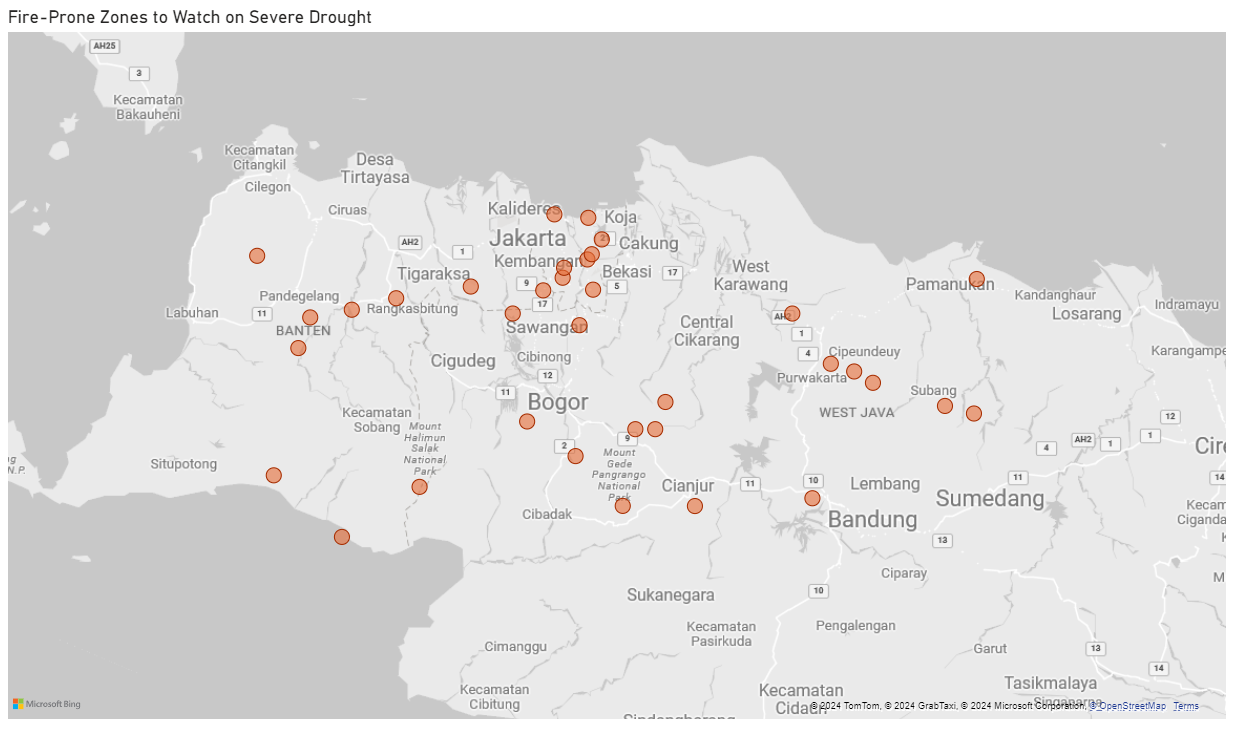

This screenshot's page, from the dashboard's own definition file:
{"tool":"powerbi","page":{"name":"map-2","canvas":[1280,720],"ordinal":1},"visuals":[{"type":"map","title":"Fire-Prone Zones to Watch on Severe Drought","fields":{"Y":["dummy.Location_Latitude"],"X":["dummy.Location_Longitude"]},"box":[41.6,17,1169.8,684.1],"z":0}]}

Visuals, with their boxes on the page's 1280x720 design canvas (x1, y1, x2, y2). These are canvas units, not pixel positions in the 1237x732 screenshot, which may show the page scaled, cropped or inside an application window:
"Fire-Prone Zones to Watch on Severe Drought" map: region(42, 17, 1211, 701)
